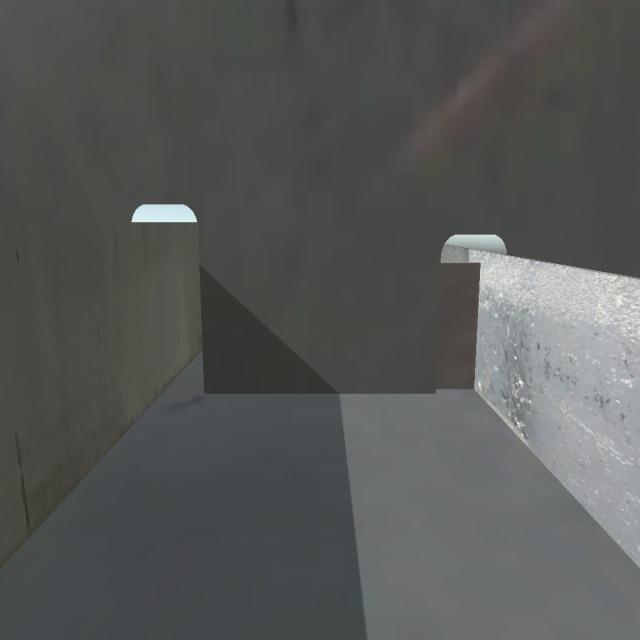fillet_yong_jeop_jang: (204, 386, 474, 394)
longi_yong_jeop_jang: (472, 266, 484, 393)
plate_behind: (438, 266, 478, 392)
